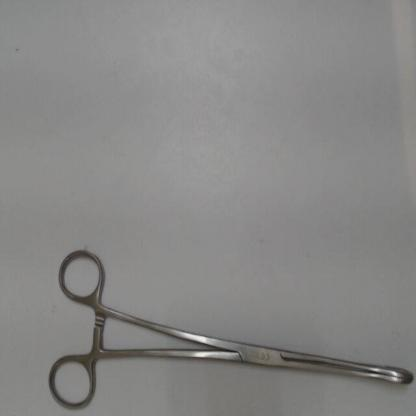Sponge Forceps: (41, 242, 415, 413)
